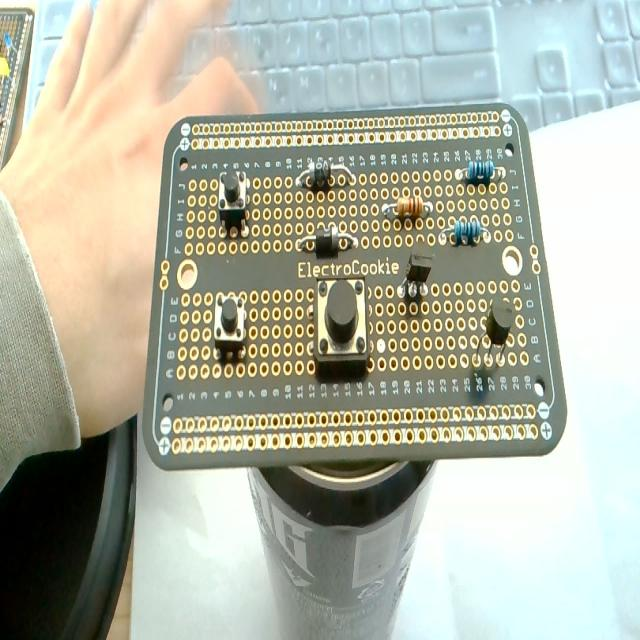diode: (297, 156, 357, 202), (294, 226, 358, 256)
resistor: (457, 156, 505, 188), (384, 193, 431, 224), (454, 218, 482, 246)
switch: (312, 276, 370, 372), (214, 292, 247, 360), (218, 170, 250, 237)
transistor: (477, 293, 517, 378), (392, 244, 438, 310)
